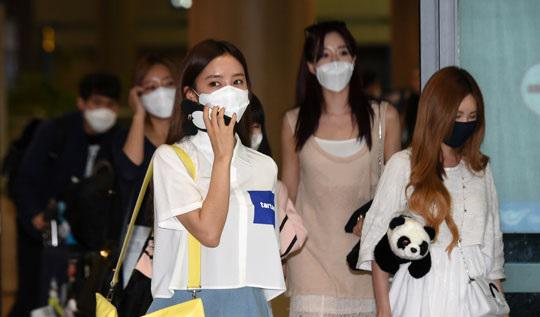OK: (197, 69, 250, 124), (312, 43, 359, 90), (438, 107, 483, 152), (142, 77, 180, 120), (86, 93, 120, 131)
